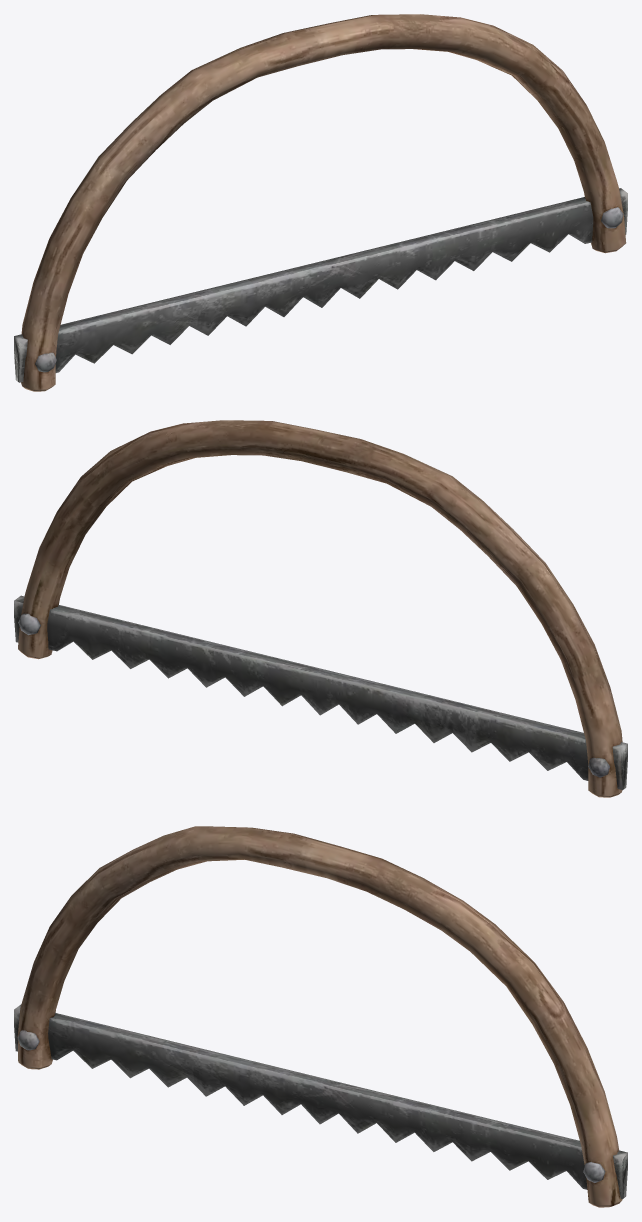
3 renders of one model, top to bottom at view 1: azimuth 30°, elevation 25°; view 2: azimuth 150°, elevation 25°; view 3: azimuth 330°, elevation 25°, orthographic.
Parts seen in each view (by area): view 1: SM_Workshop_Tools_Saw_Small_LOD0; view 2: SM_Workshop_Tools_Saw_Small_LOD0; view 3: SM_Workshop_Tools_Saw_Small_LOD0.
Boxes of the visible parts, bbox=[...] form: SM_Workshop_Tools_Saw_Small_LOD0: bbox=[14, 14, 627, 391]; SM_Workshop_Tools_Saw_Small_LOD0: bbox=[14, 420, 627, 797]; SM_Workshop_Tools_Saw_Small_LOD0: bbox=[14, 826, 627, 1207].
Size of the model in its own units: 0.5186 by 0.2391 by 0.0358.
1 material, 1 textured.
